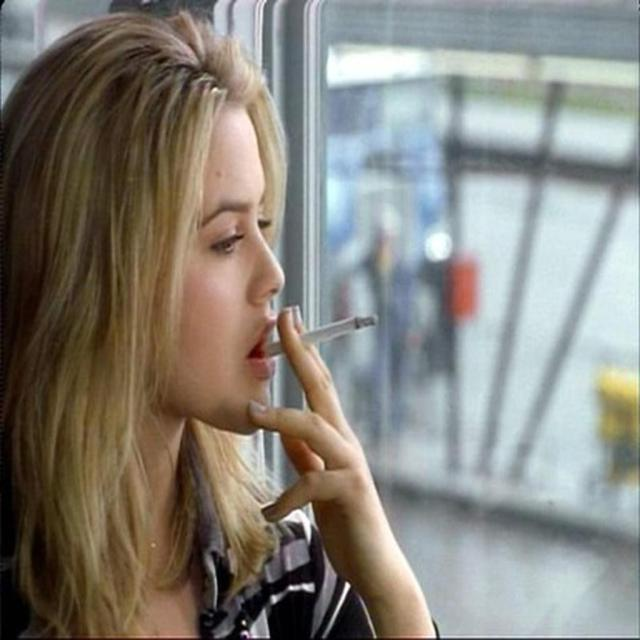smoking: (123, 57, 411, 620)
